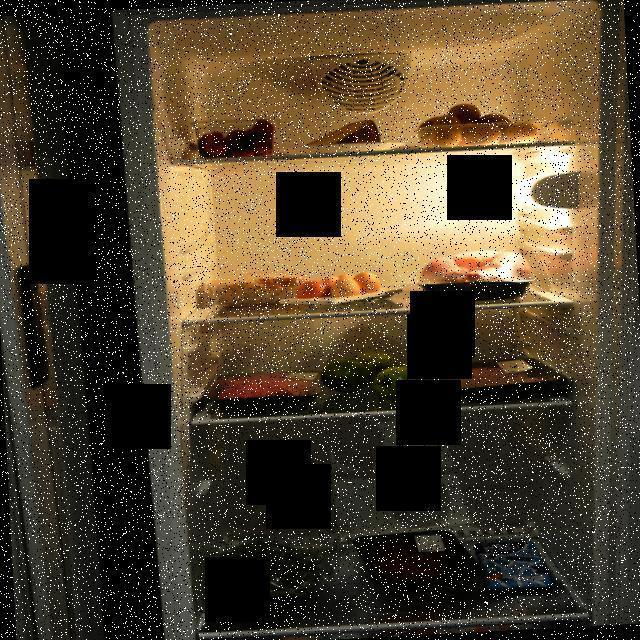apple: (316, 342, 439, 412)
beef: (349, 526, 489, 598)
bread: (202, 268, 312, 310)
cheese: (296, 114, 388, 155)
chicken: (414, 238, 540, 306)
chicken_breast: (428, 353, 572, 406)
chocolate: (472, 536, 558, 594)
egg: (294, 270, 382, 307)
green_beans: (202, 533, 346, 617)
ground_beef: (199, 366, 326, 418)
potato: (407, 98, 546, 149)
strawberries: (194, 116, 280, 160)
